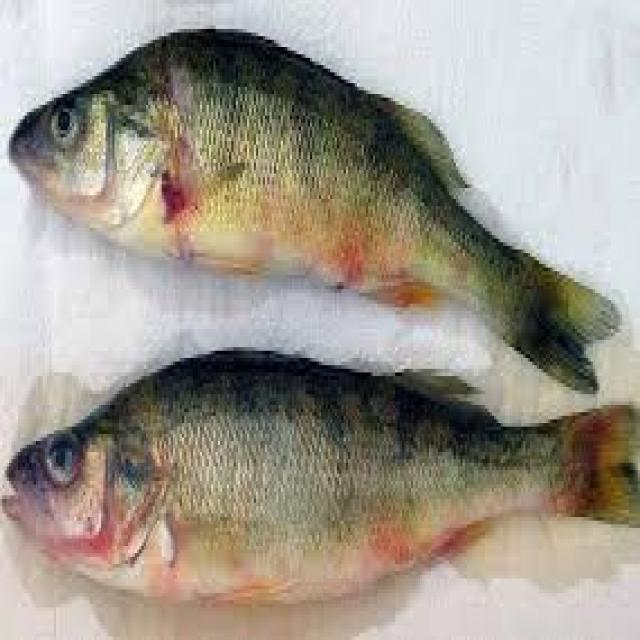EUS Disease: (8, 29, 640, 386), (3, 353, 640, 599), (101, 46, 262, 286), (303, 126, 445, 312)
